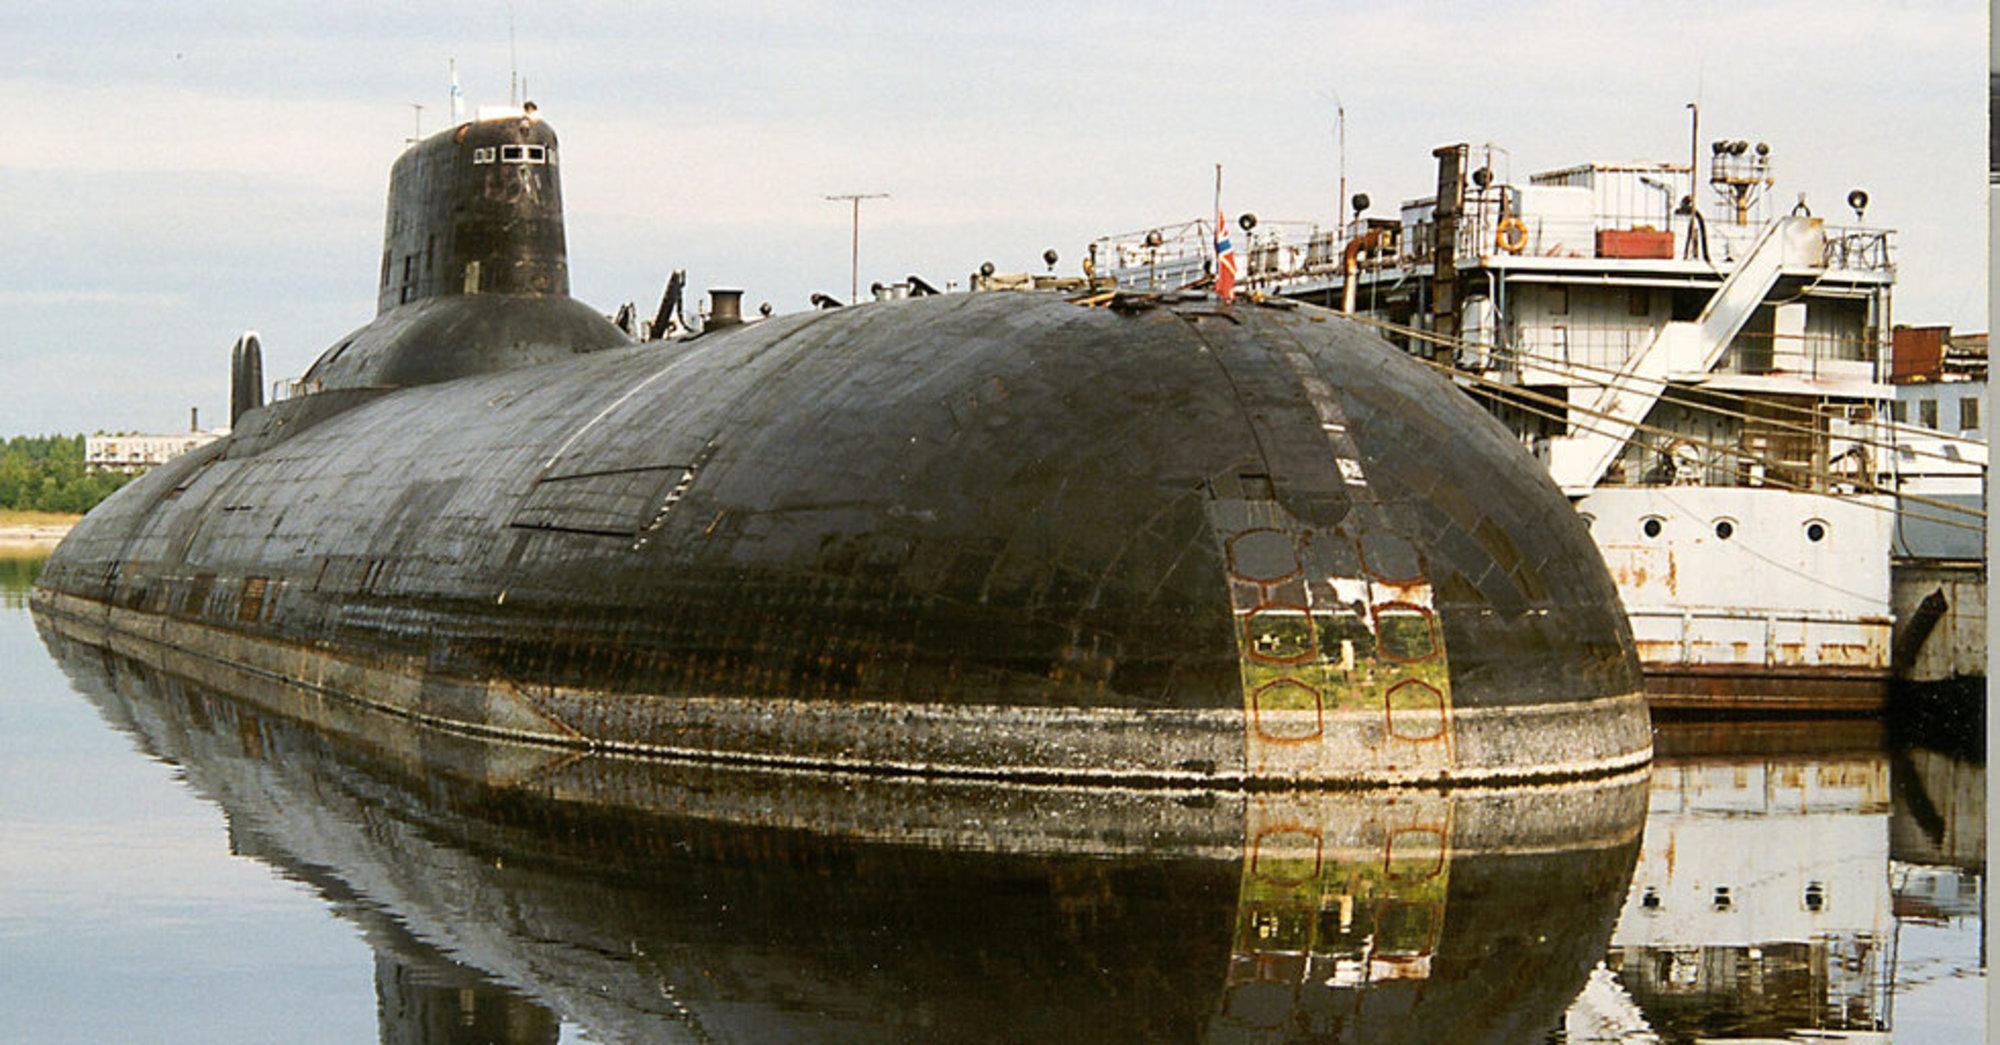Submarine: (11, 22, 1710, 1040)
